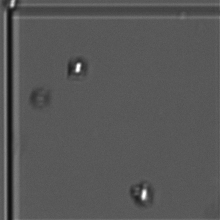Dead Cell: (26, 85, 56, 115)
Living Cell: (126, 176, 159, 209), (64, 55, 90, 81)
